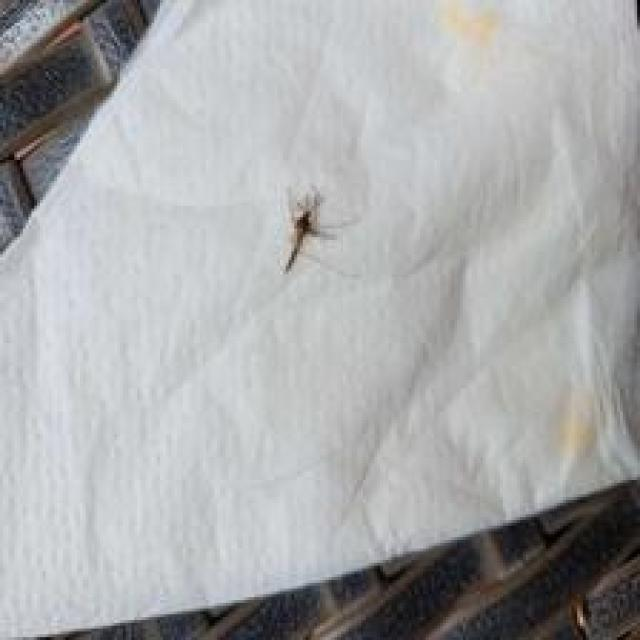Culex: (280, 184, 337, 273)
